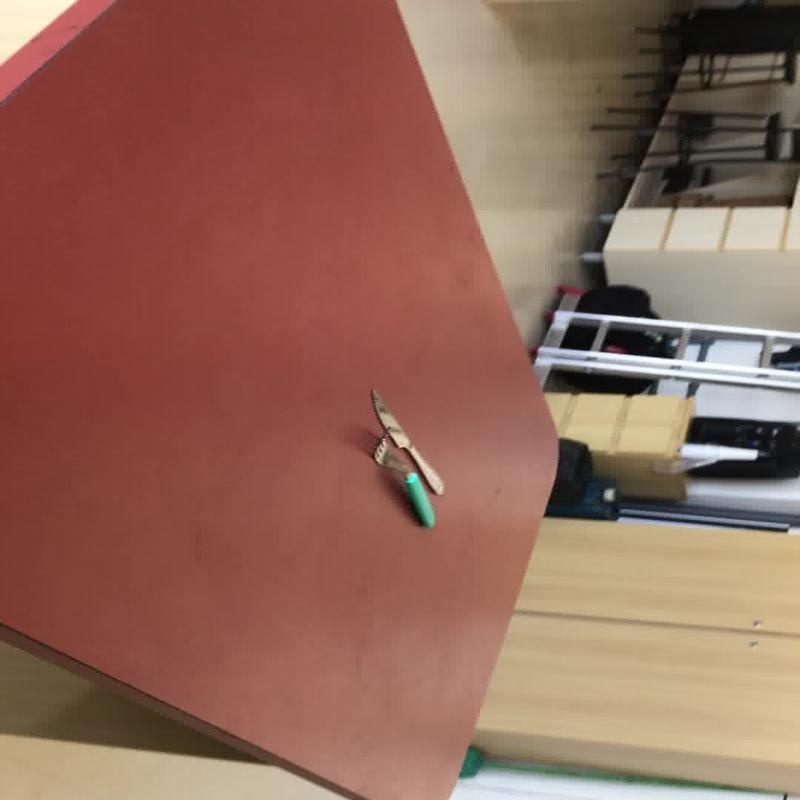knife: (364, 387, 445, 528)
